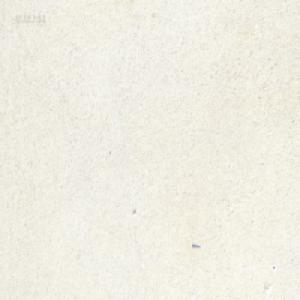Nail: (192, 242, 200, 248)
